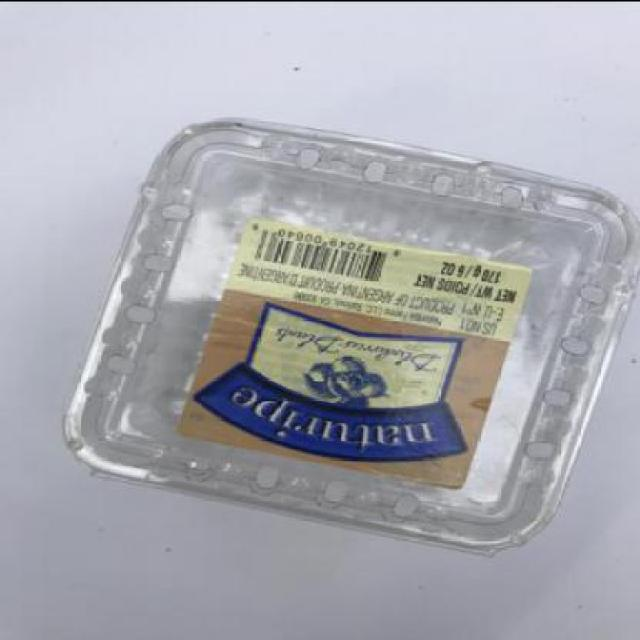PLASTIC: (67, 113, 639, 550)
